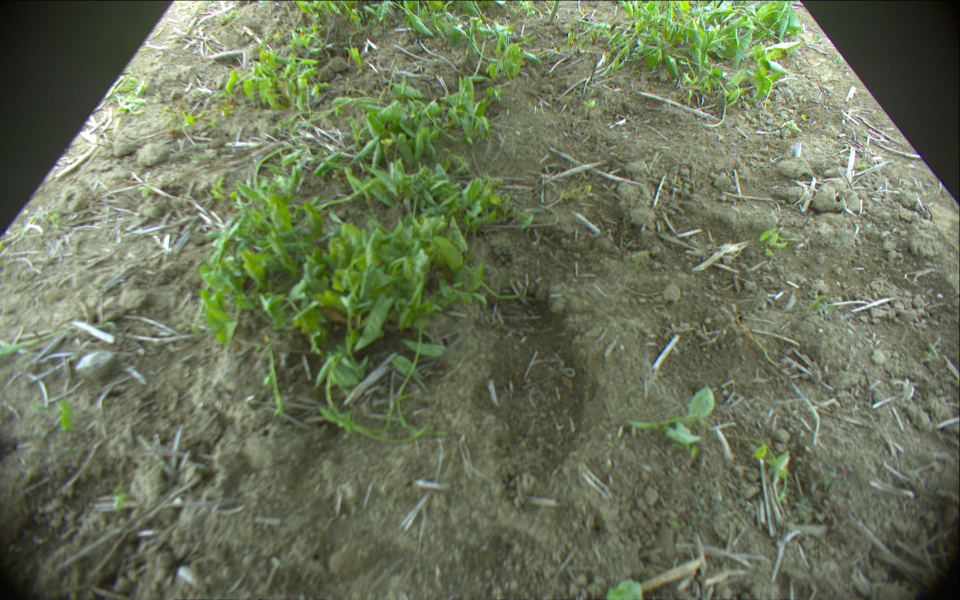aspa: (549, 1, 559, 23)
